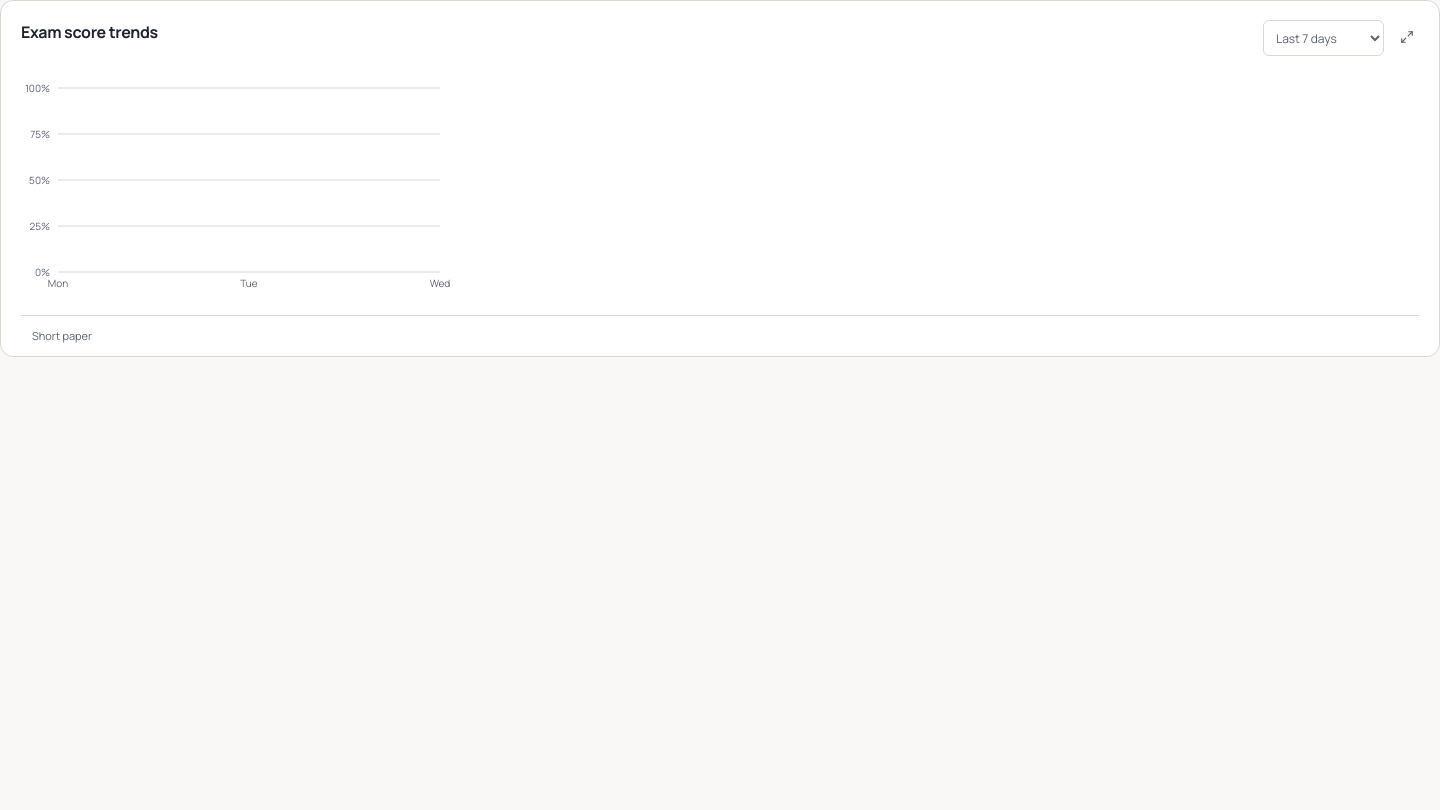
Test: keeps a selected profile's colour stable and exposes genuine zero / missing trend data
The width and height of the screenshot is (1440, 810).
Select "Last 30 days" in the dropdown named "Exam trend date range" at (1324, 38), box [1263,20,1384,56]
Click the button named "View exam score trends data" at (1407, 36), box [1390,20,1424,54]
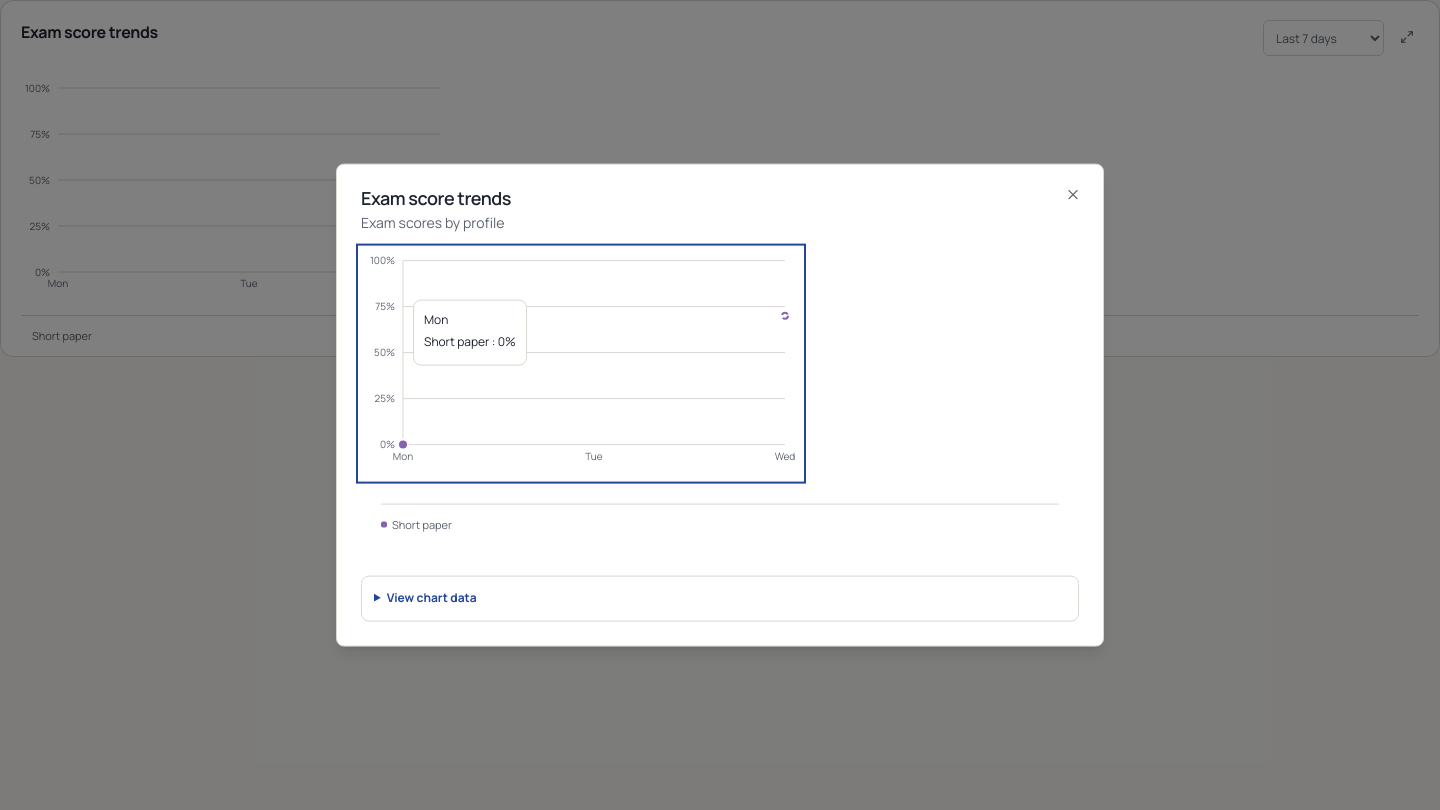
Expected: the dialog shows "Short paper", [424,333,489,350]
